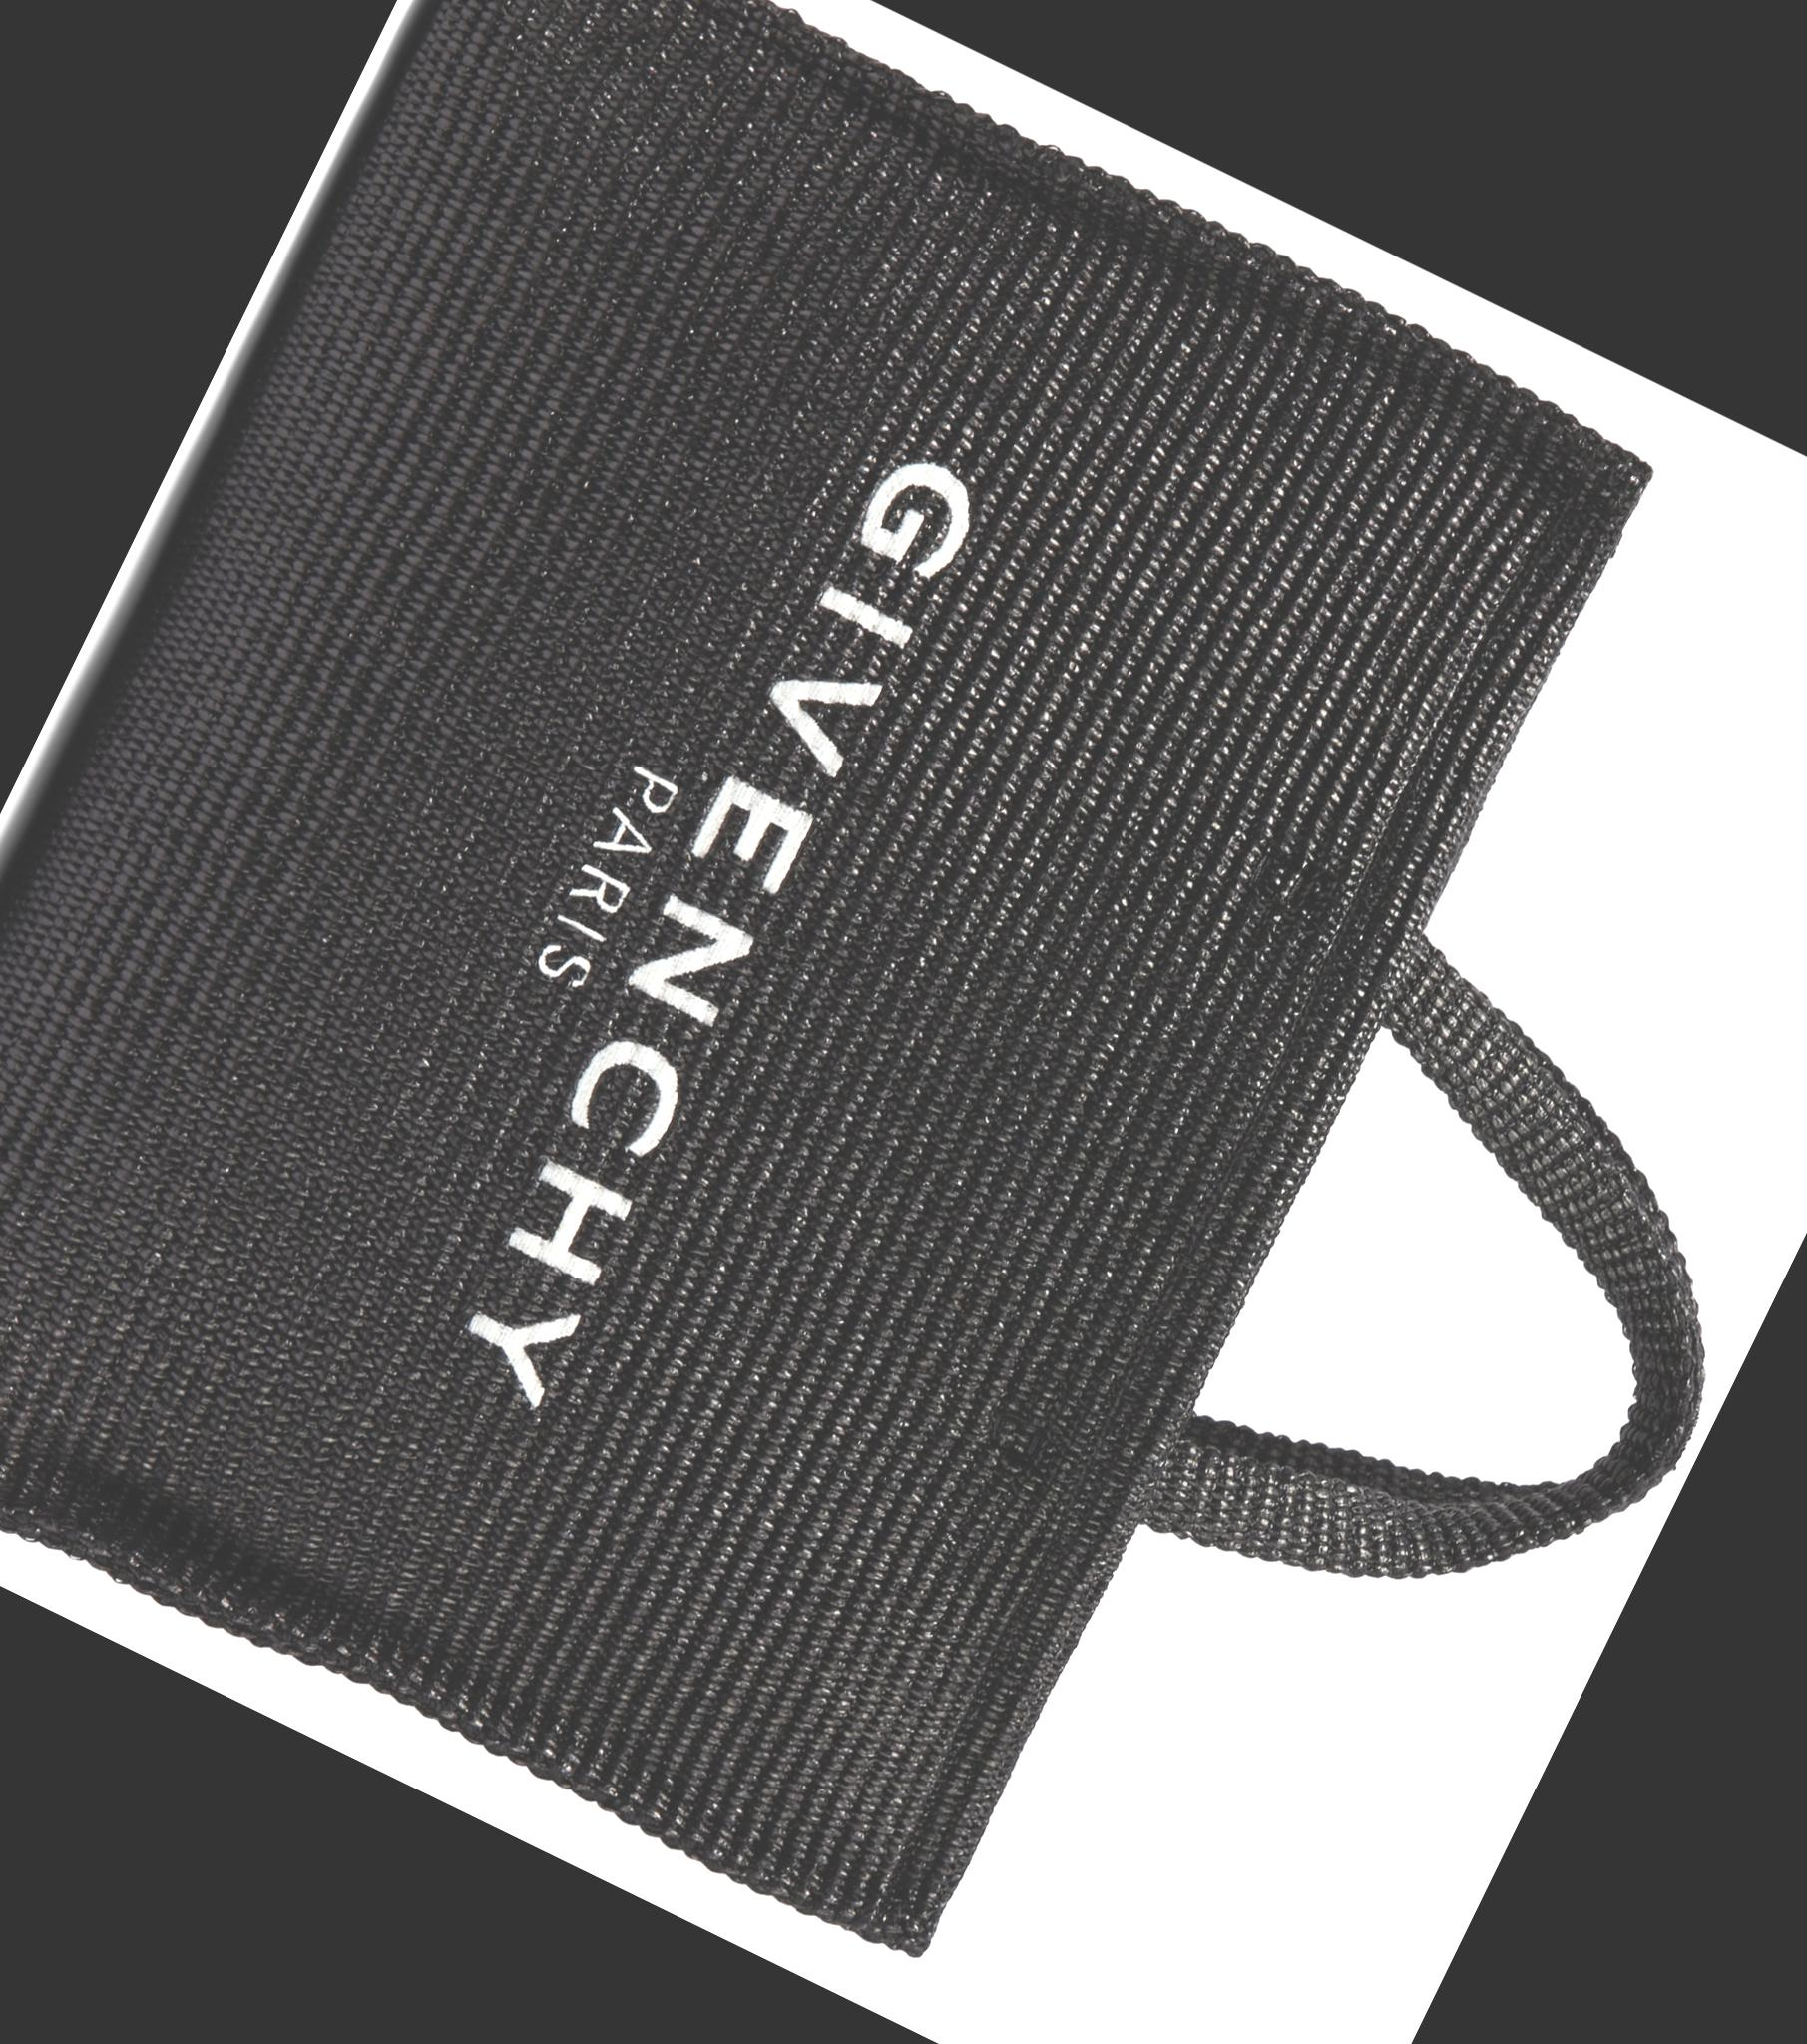GIVENCHY: (392, 417, 1043, 1488)
